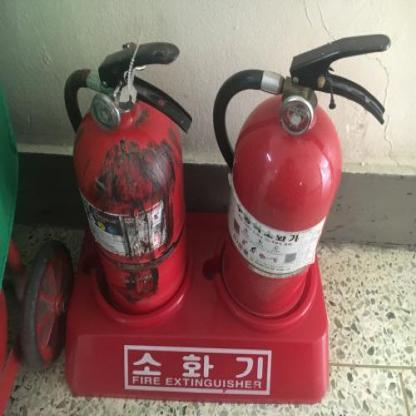Fire Extinguisher: (211, 28, 398, 332), (52, 30, 200, 330)
